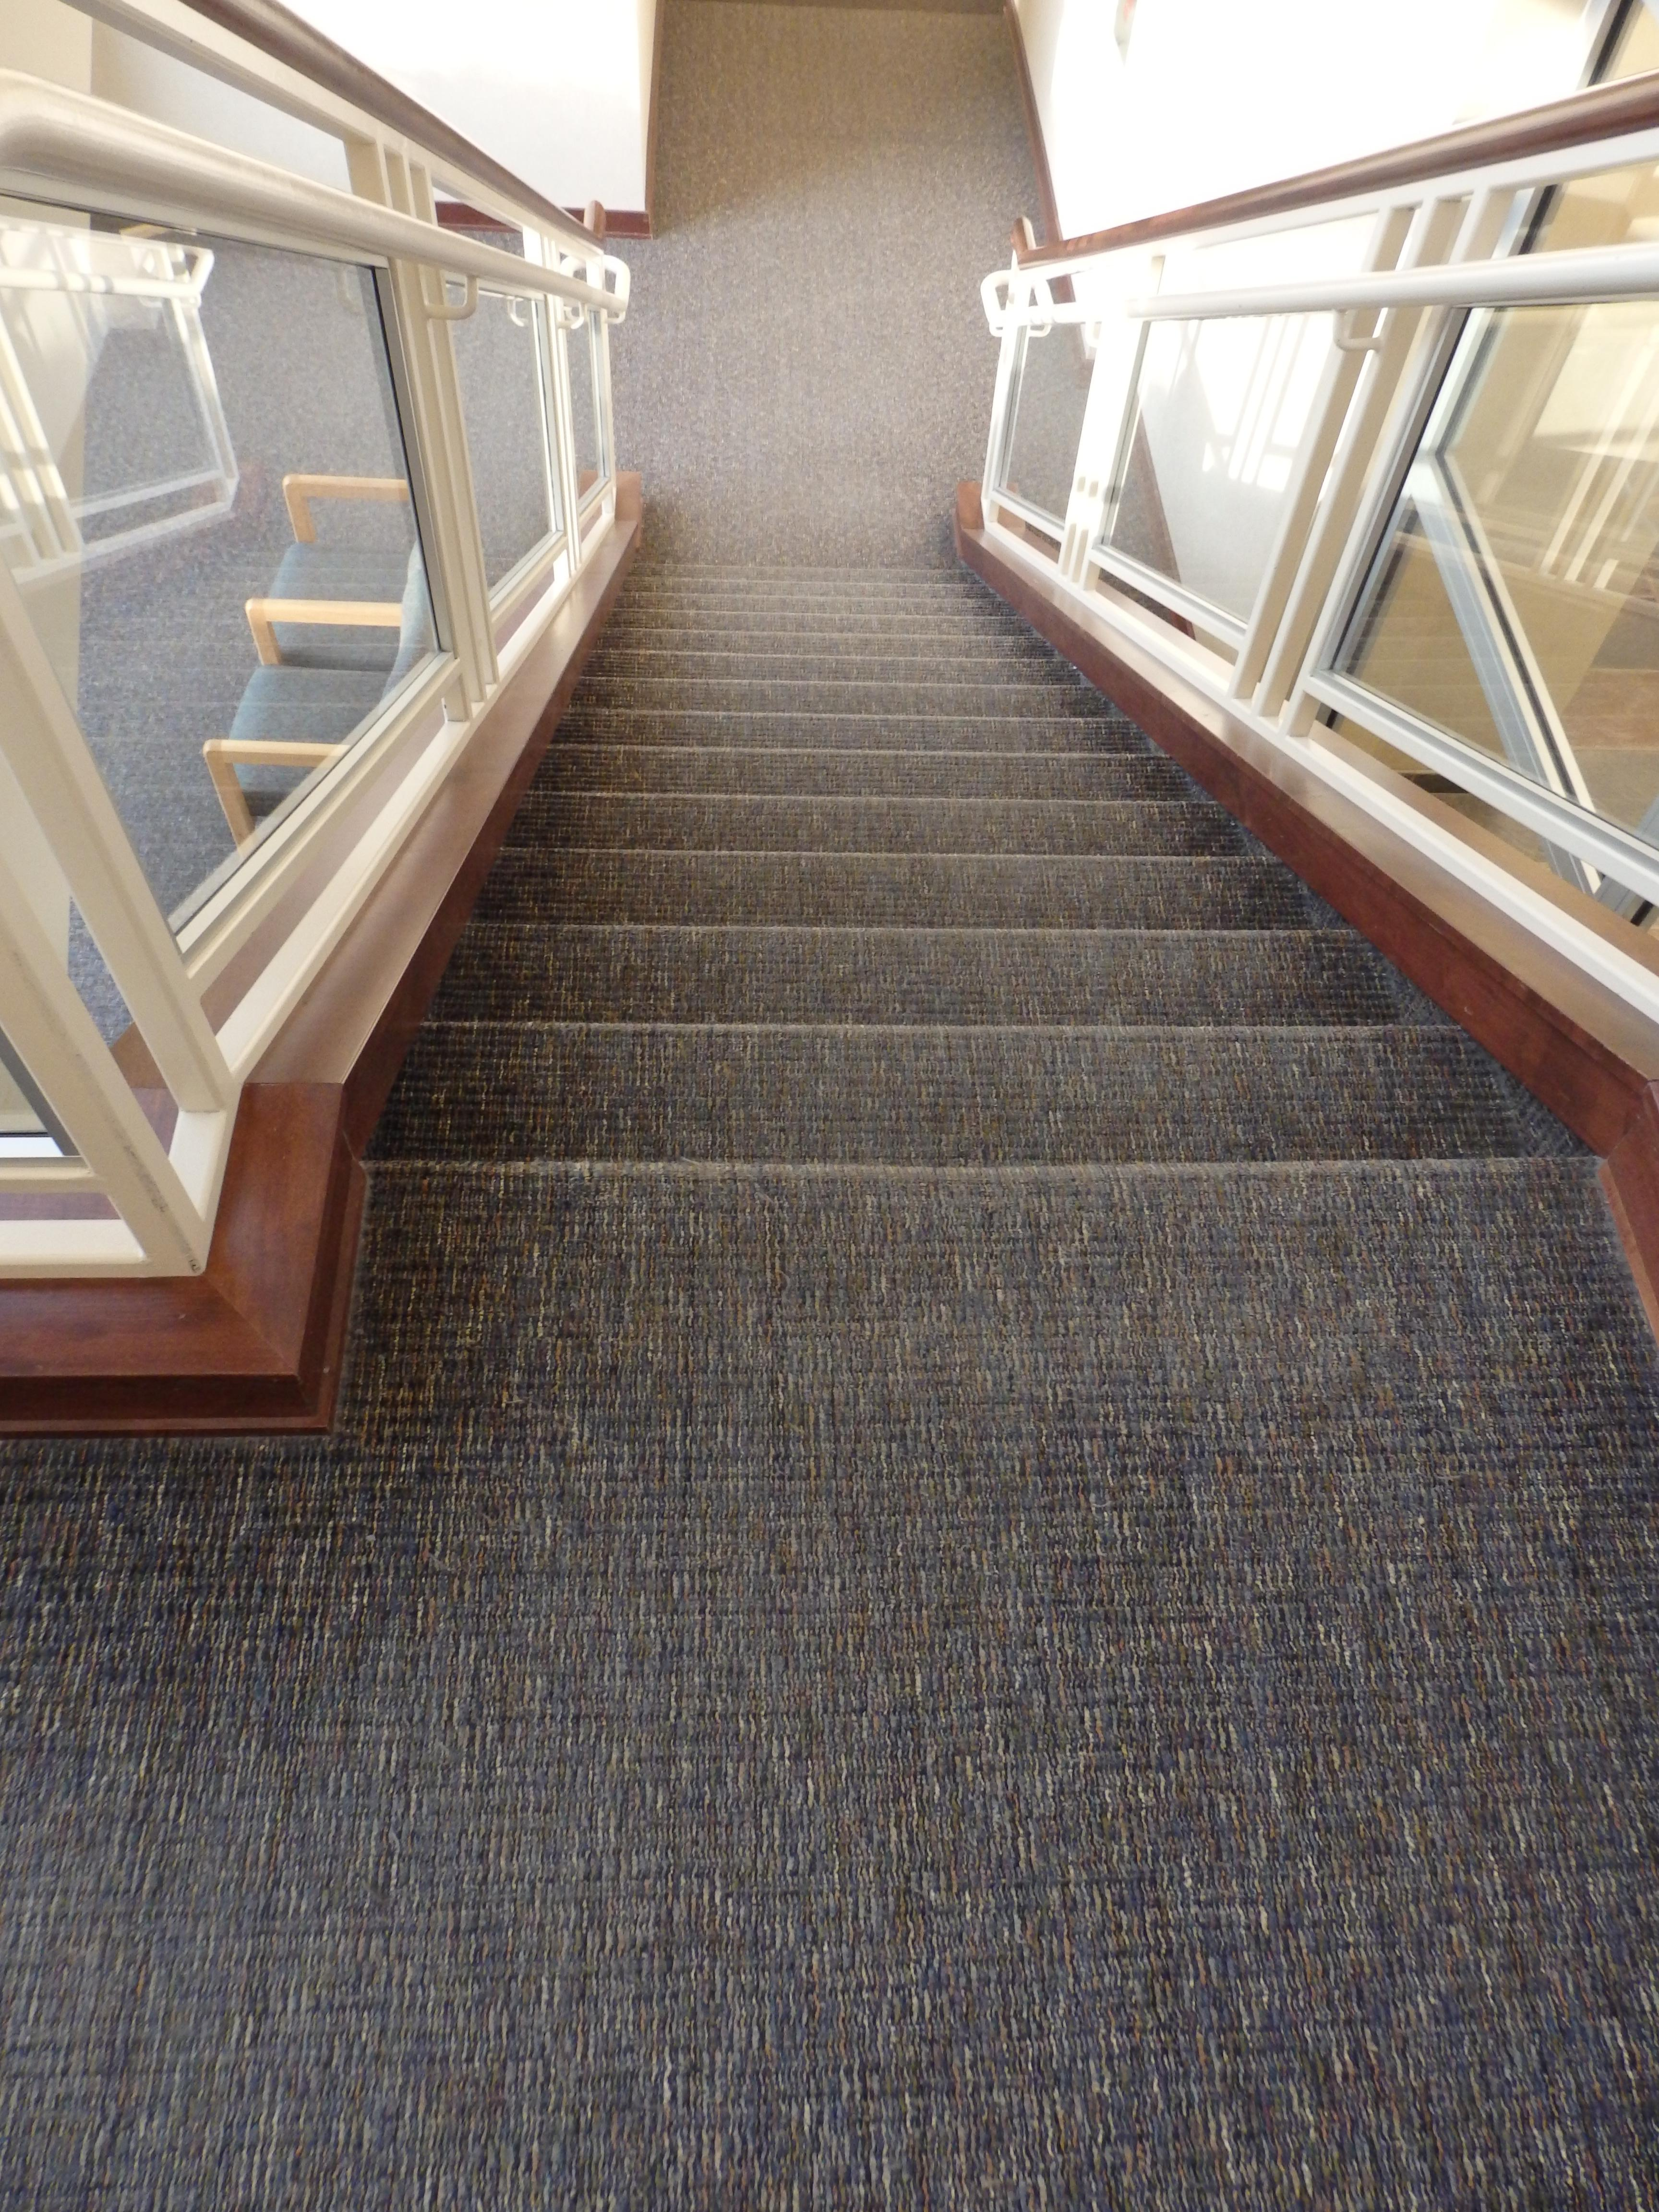stairs_down: (361, 519, 1506, 1237)
